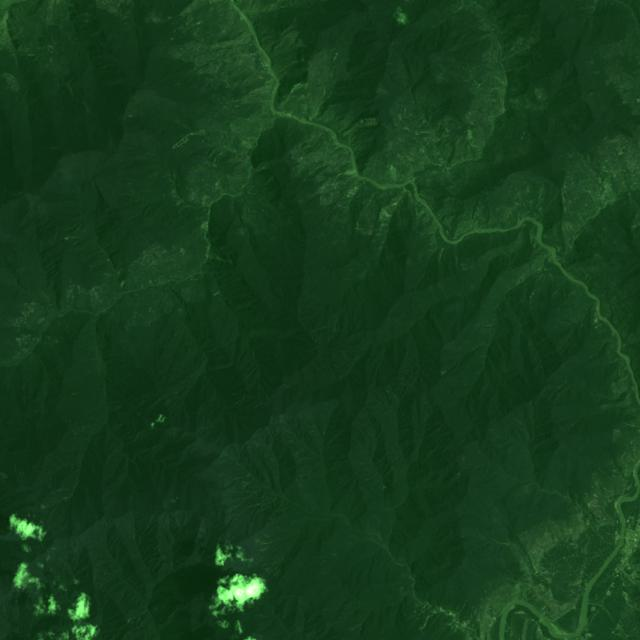landslides: (172, 128, 205, 148), (599, 391, 632, 411), (587, 602, 613, 621), (419, 608, 438, 629), (224, 474, 250, 488), (207, 249, 231, 264), (623, 591, 640, 611), (547, 185, 558, 210), (227, 174, 245, 189), (151, 414, 165, 429), (389, 165, 399, 184), (173, 138, 189, 149), (93, 258, 110, 268), (435, 133, 448, 146), (241, 140, 257, 150), (380, 208, 391, 222), (499, 276, 509, 290), (413, 153, 423, 167), (494, 76, 507, 86), (310, 326, 326, 334), (177, 203, 187, 215), (215, 181, 224, 194), (441, 278, 447, 297), (359, 117, 377, 123), (366, 472, 378, 481)
